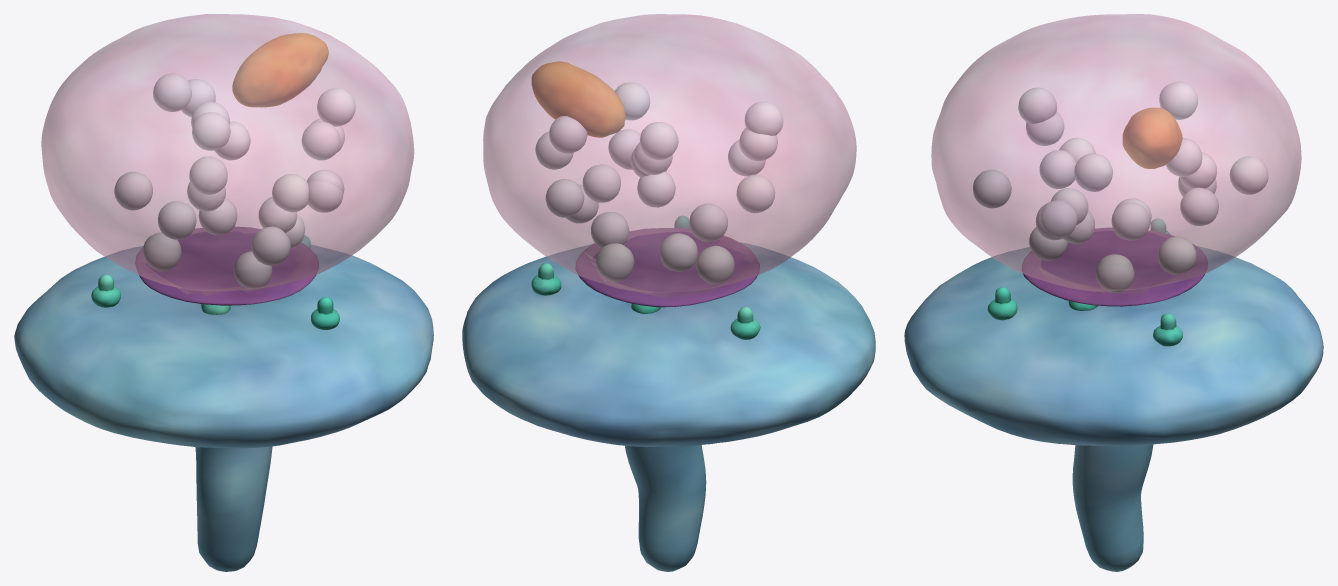
Rendered from synapse-terminal.glb.
The picture shows the model from 3 angles, left to right: view 1: azimuth 30°, elevation 25°; view 2: azimuth 150°, elevation 25°; view 3: azimuth 270°, elevation 25°; orthographic projection.
Visible parts, largest first — view 1: synapse-terminal-bouton, synapse-terminal-postsynaptic, synapse-terminal-vesicles, synapse-terminal-active-zone, synapse-terminal-mitochondrion, synapse-terminal-receptors; view 2: synapse-terminal-bouton, synapse-terminal-postsynaptic, synapse-terminal-vesicles, synapse-terminal-active-zone, synapse-terminal-mitochondrion, synapse-terminal-receptors; view 3: synapse-terminal-bouton, synapse-terminal-postsynaptic, synapse-terminal-vesicles, synapse-terminal-active-zone, synapse-terminal-mitochondrion, synapse-terminal-receptors.
Boxes of the visible parts, left/top/right/bottom form: synapse-terminal-bouton: left=41, top=14, right=414, bottom=295; synapse-terminal-postsynaptic: left=14, top=245, right=433, bottom=571; synapse-terminal-vesicles: left=114, top=73, right=355, bottom=289; synapse-terminal-active-zone: left=135, top=226, right=318, bottom=305; synapse-terminal-mitochondrion: left=232, top=33, right=328, bottom=107; synapse-terminal-receptors: left=91, top=235, right=339, bottom=329; synapse-terminal-bouton: left=483, top=14, right=856, bottom=297; synapse-terminal-postsynaptic: left=462, top=242, right=875, bottom=571; synapse-terminal-vesicles: left=535, top=82, right=783, bottom=284; synapse-terminal-active-zone: left=575, top=228, right=759, bottom=307; synapse-terminal-mitochondrion: left=531, top=61, right=625, bottom=137; synapse-terminal-receptors: left=531, top=216, right=760, bottom=339; synapse-terminal-bouton: left=931, top=14, right=1301, bottom=293; synapse-terminal-postsynaptic: left=904, top=246, right=1323, bottom=571; synapse-terminal-vesicles: left=973, top=81, right=1268, bottom=292; synapse-terminal-active-zone: left=1022, top=228, right=1207, bottom=306; synapse-terminal-mitochondrion: left=1122, top=107, right=1182, bottom=168; synapse-terminal-receptors: left=987, top=218, right=1182, bottom=346.
Size of what is drawn, in the model's own units: 2.81 by 3.94 by 2.81.
